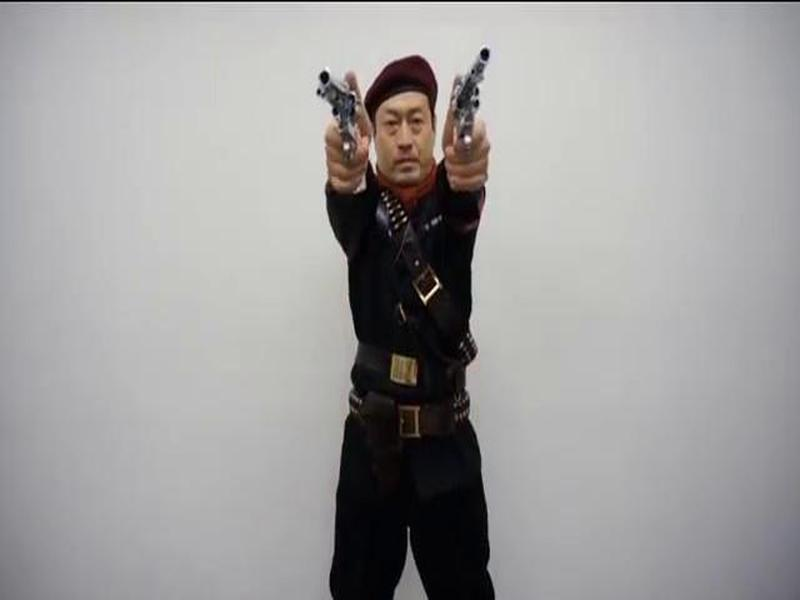Revolver: (447, 39, 506, 150), (322, 55, 367, 170)
